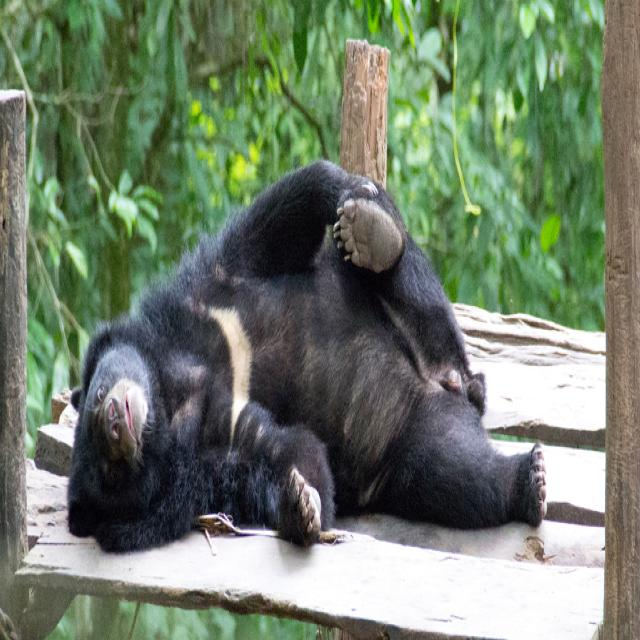Buffalo: (64, 158, 546, 556)
